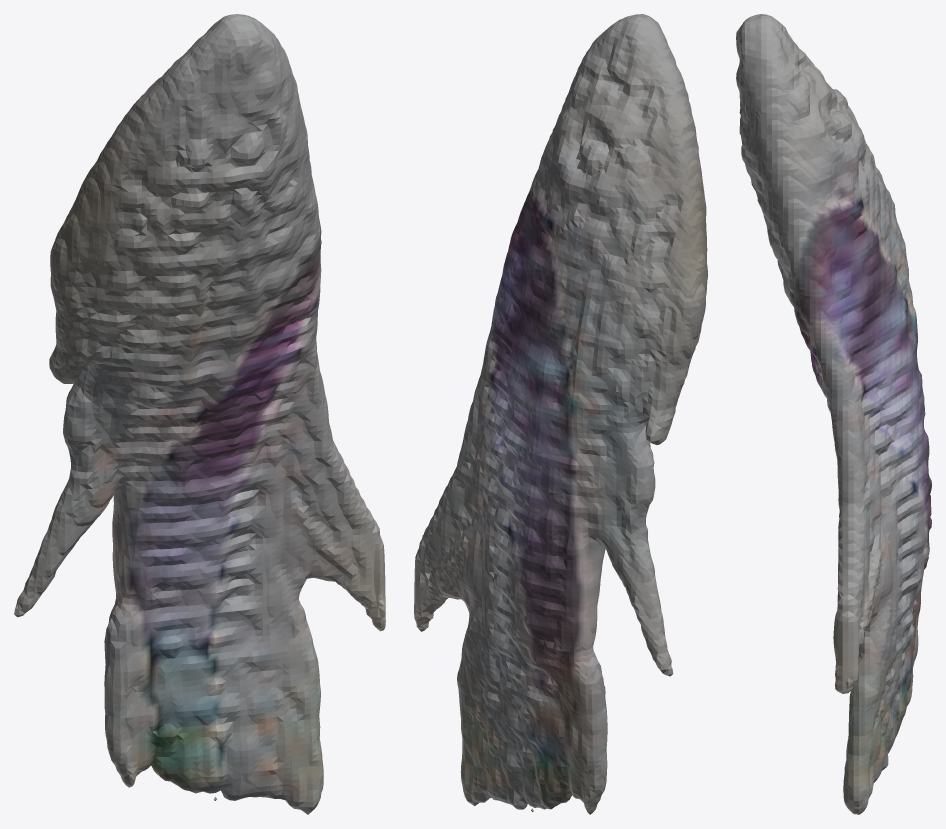
File: aphyosemion-bivittatum.glb
The picture shows the model from 3 angles, left to right: view 1: azimuth 30°, elevation 25°; view 2: azimuth 150°, elevation 25°; view 3: azimuth 270°, elevation 25°; orthographic projection. The views are drawn at different scales.
Visible parts, largest first — view 1: world; view 2: world; view 3: world.
Boxes of the visible parts, x1=… form: world: x1=14, y1=14, x2=385, y2=814; world: x1=414, y1=14, x2=707, y2=814; world: x1=736, y1=14, x2=931, y2=814.
Size of the model in its own units: 0.409 by 1.03 by 0.2458.
